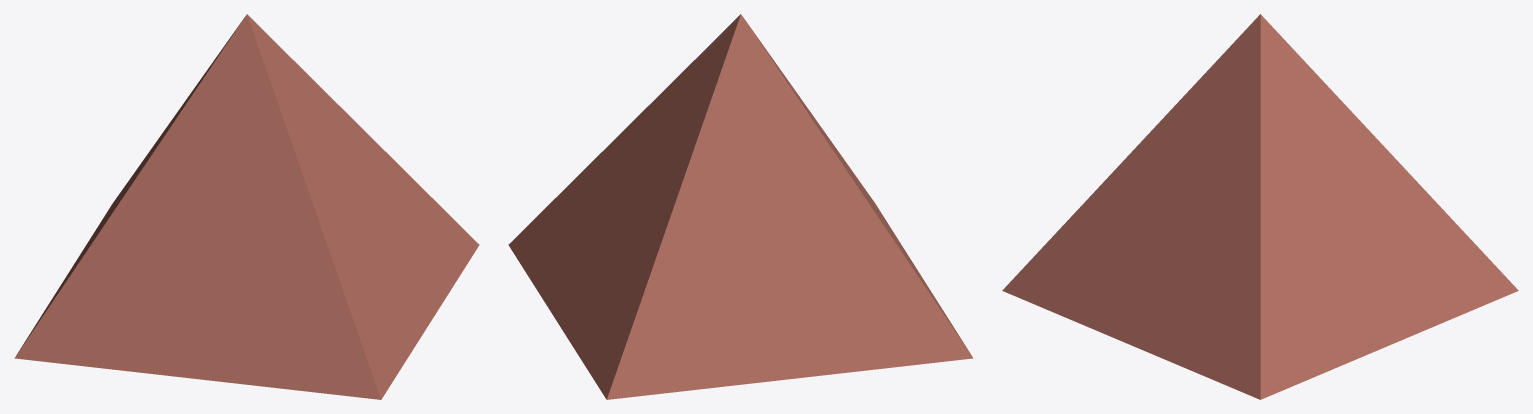
The model's file is tent.gltf.
3 views of the same model, side by side, from view 1: azimuth 30°, elevation 25°; view 2: azimuth 150°, elevation 25°; view 3: azimuth 270°, elevation 25° (orthographic). The views are drawn at different scales.
Visible parts, largest first — view 1: tent; view 2: tent; view 3: tent.
Part boxes in pixels (x1,y1,x2,y2): tent: (14, 14, 479, 399); tent: (508, 14, 973, 399); tent: (1002, 14, 1518, 399).
Size of the model in its own units: 4.4 by 2.6 by 4.4.
